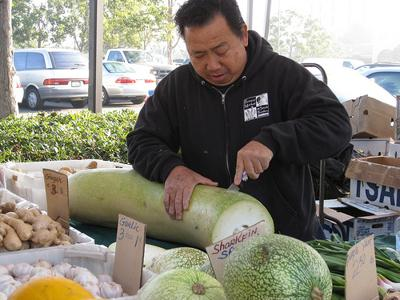person: (126, 2, 354, 244)
